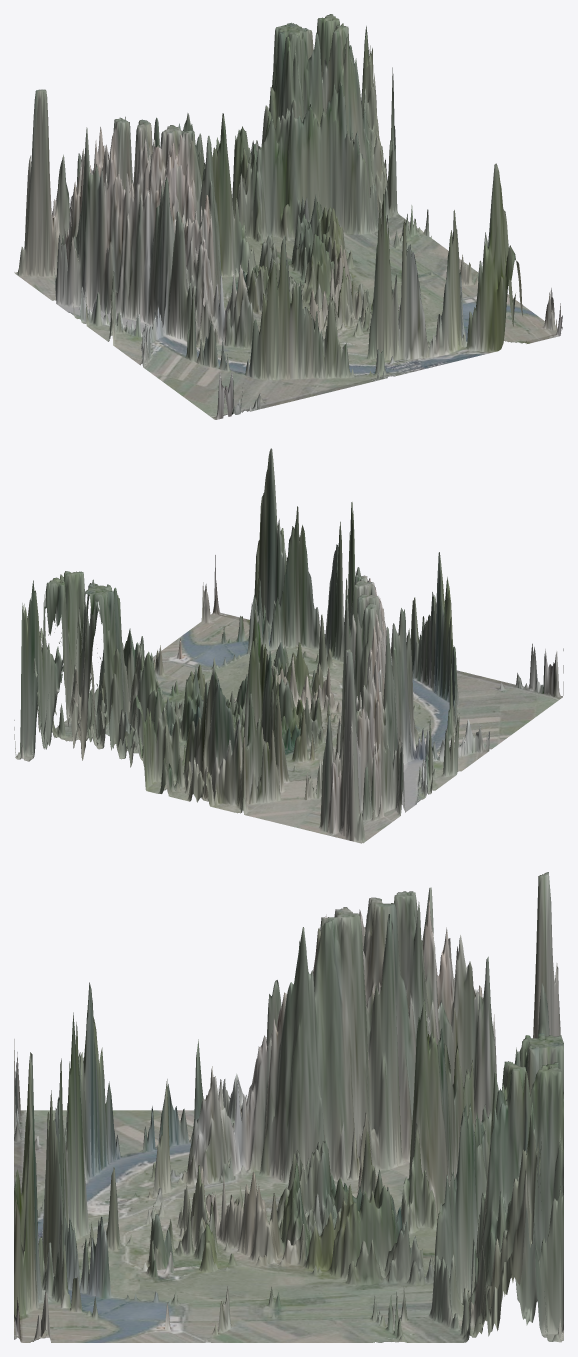
The model's file is dsm_7bbd2f6bd8_mesh.glb.
The picture shows the model from 3 angles, top to bottom: view 1: azimuth 30°, elevation 25°; view 2: azimuth 150°, elevation 25°; view 3: azimuth 270°, elevation 25°; orthographic projection. The views are drawn at different scales.
Visible parts, largest first — view 1: geometry_0; view 2: geometry_0; view 3: geometry_0.
Boxes of the visible parts, <box> form: geometry_0: <box>14,14,562,419</box>; geometry_0: <box>14,448,563,843</box>; geometry_0: <box>14,872,563,1342</box>.
Bounding box in the file's own units: 2 × 1 × 2.
